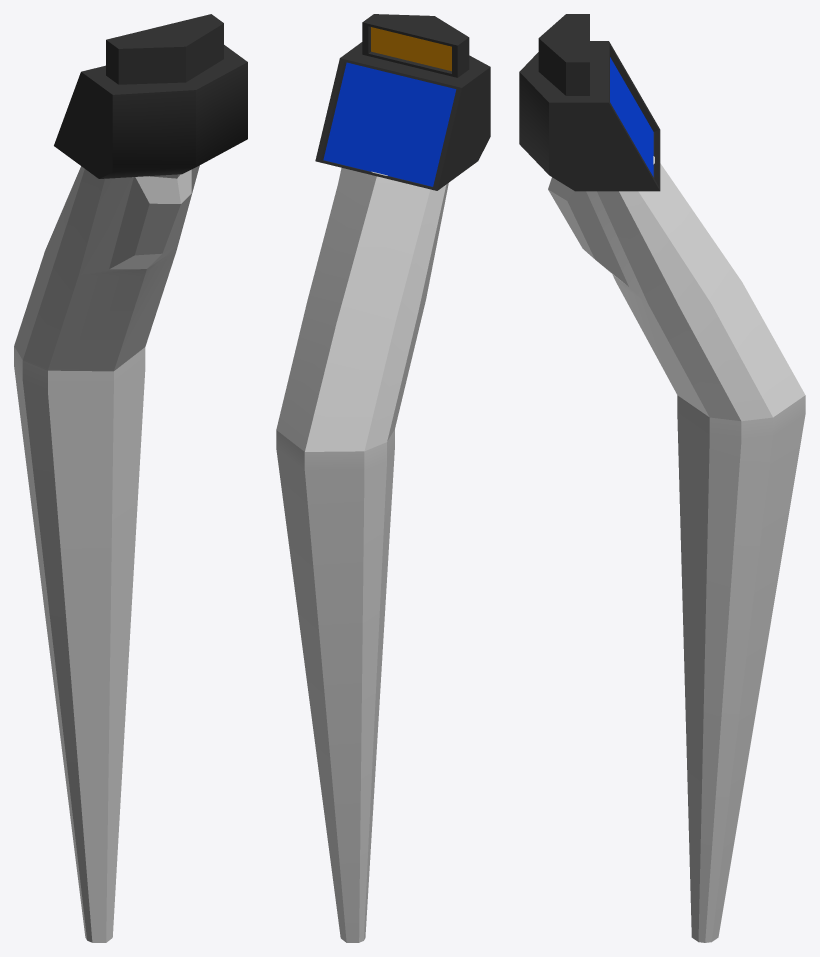
Rendered from Joystick.fbx.
The picture shows the model from 3 angles, left to right: view 1: azimuth 30°, elevation 25°; view 2: azimuth 150°, elevation 25°; view 3: azimuth 270°, elevation 25°; orthographic projection. The views are drawn at different scales.
Parts seen in each view (by area): view 1: Joystick; view 2: Joystick; view 3: Joystick.
Boxes of the visible parts, x1,y1,x2,y2 form: Joystick: (14,14,247,942); Joystick: (276,14,490,942); Joystick: (519,14,805,942).
Bounding box in the file's own units: 4.23 × 28.63 × 8.26.
